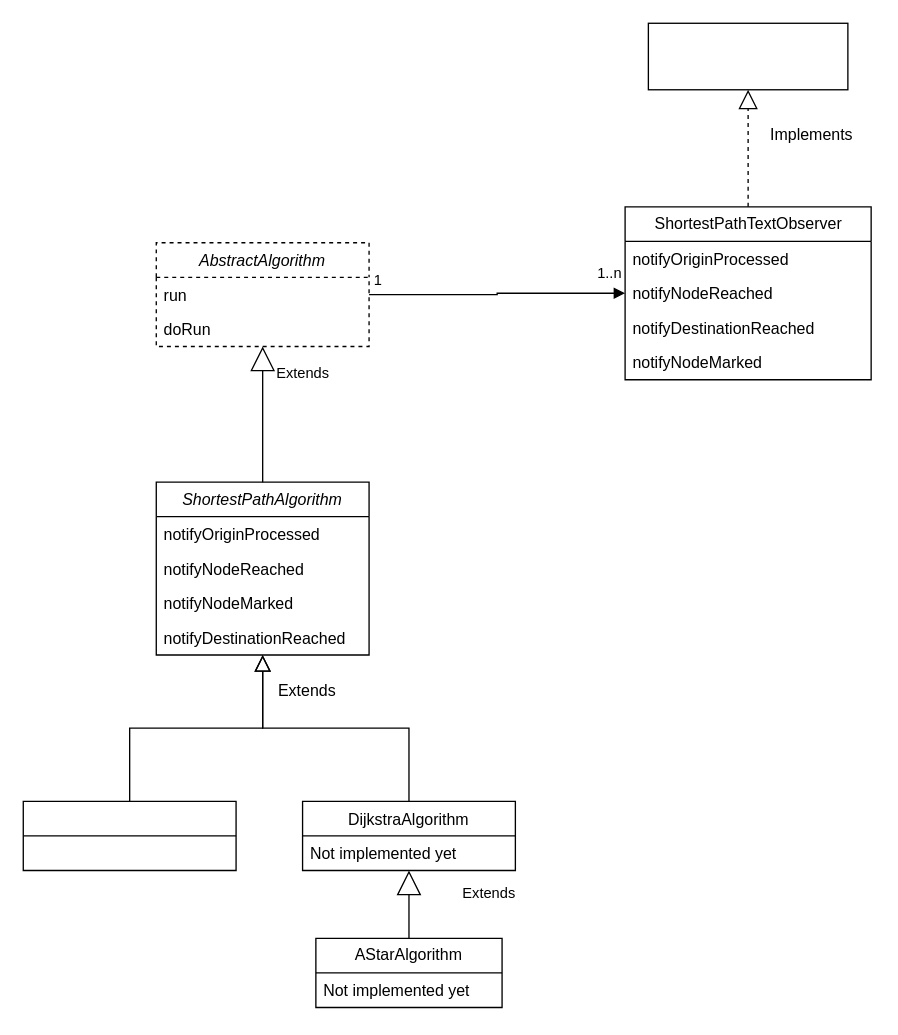
This 898x1035 diagram has some shape labels left out. Each missing label, with the centre of its shape:
"BellmanFordAlgorithm" goes at pixel 129 835.
"«interface» ShortestPathObserver" goes at pixel 747 56.
